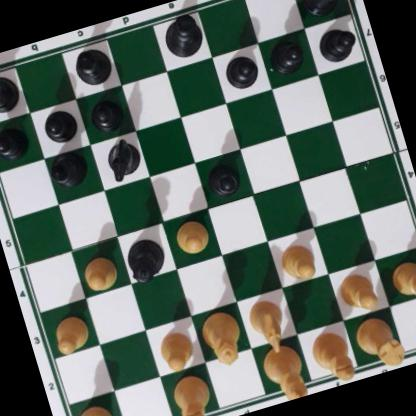black-bishop: (67, 41, 117, 88), (43, 148, 91, 193)
black-king: (159, 10, 209, 63)
black-knight: (100, 135, 143, 181)
black-pawn: (314, 21, 359, 66), (201, 156, 244, 200), (39, 104, 80, 147), (266, 34, 307, 76), (221, 49, 261, 91), (86, 93, 125, 134), (0, 122, 31, 162)
black-queen: (123, 234, 170, 287)
black-rook: (0, 66, 22, 120), (295, 0, 349, 19)
white-bishop: (306, 327, 360, 389), (169, 371, 219, 416)
white-king: (258, 339, 311, 405)
white-knight: (244, 295, 291, 356)
white-pawn: (334, 267, 382, 316), (153, 326, 198, 373), (77, 250, 122, 295), (275, 239, 319, 285), (47, 311, 92, 355), (170, 216, 213, 258), (387, 255, 416, 301)
white-queen: (197, 309, 249, 370)
white-rook: (353, 309, 405, 374), (67, 398, 121, 416)
